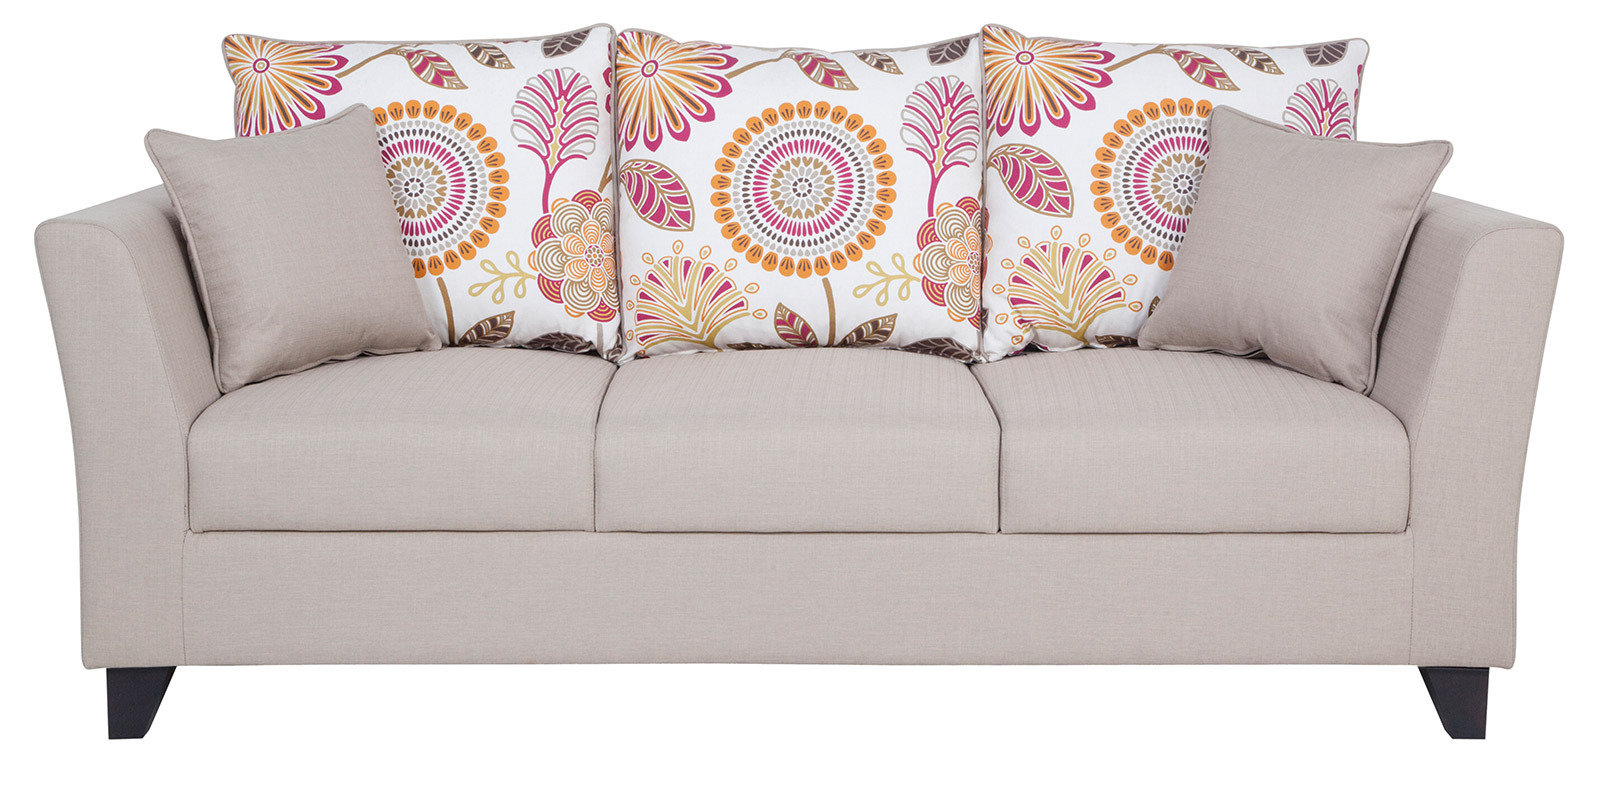Mumbai Glitz Three Seater Sofa in Beige Colour by Urban Living: (30, 23, 1564, 742)
